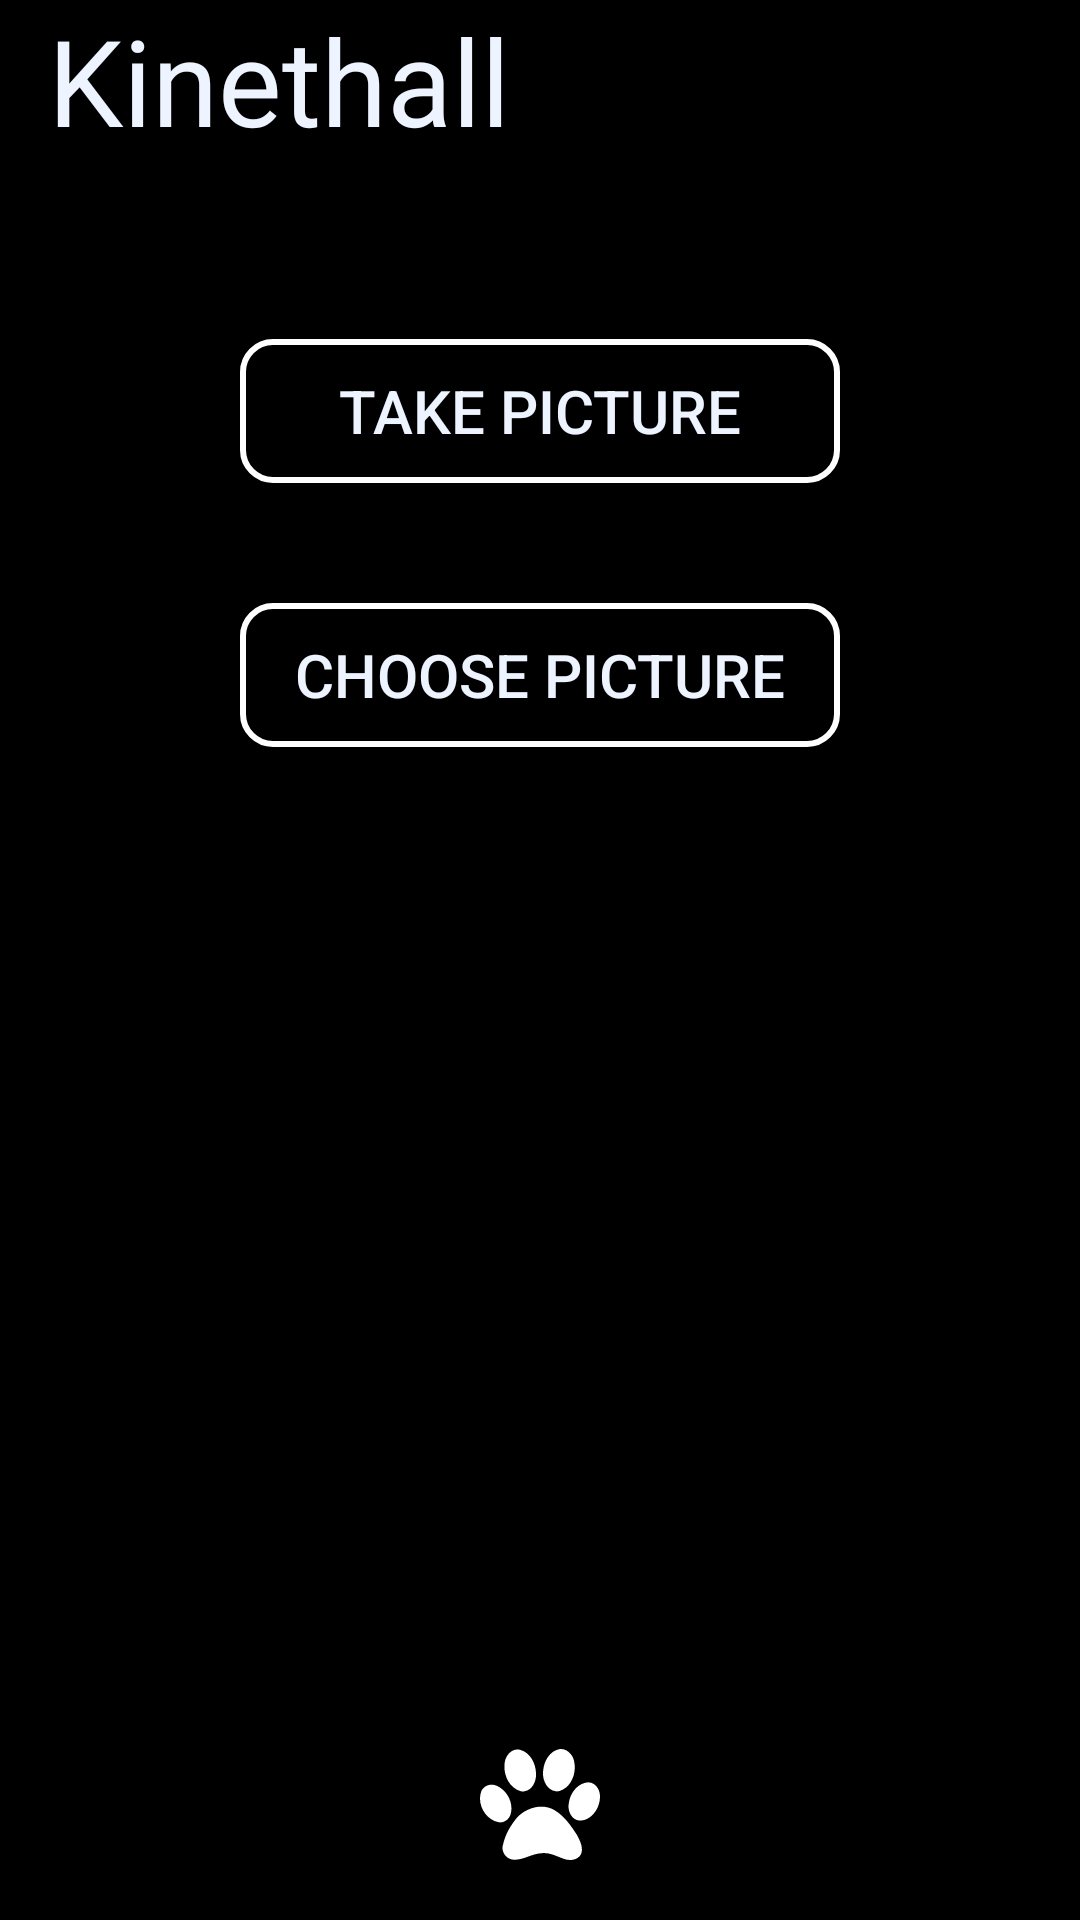

Icon bounding boxes for this 1080*1920 phone screenshot, format [x1,y1,x2,y2]:
paw print: [480,1749,600,1860]
